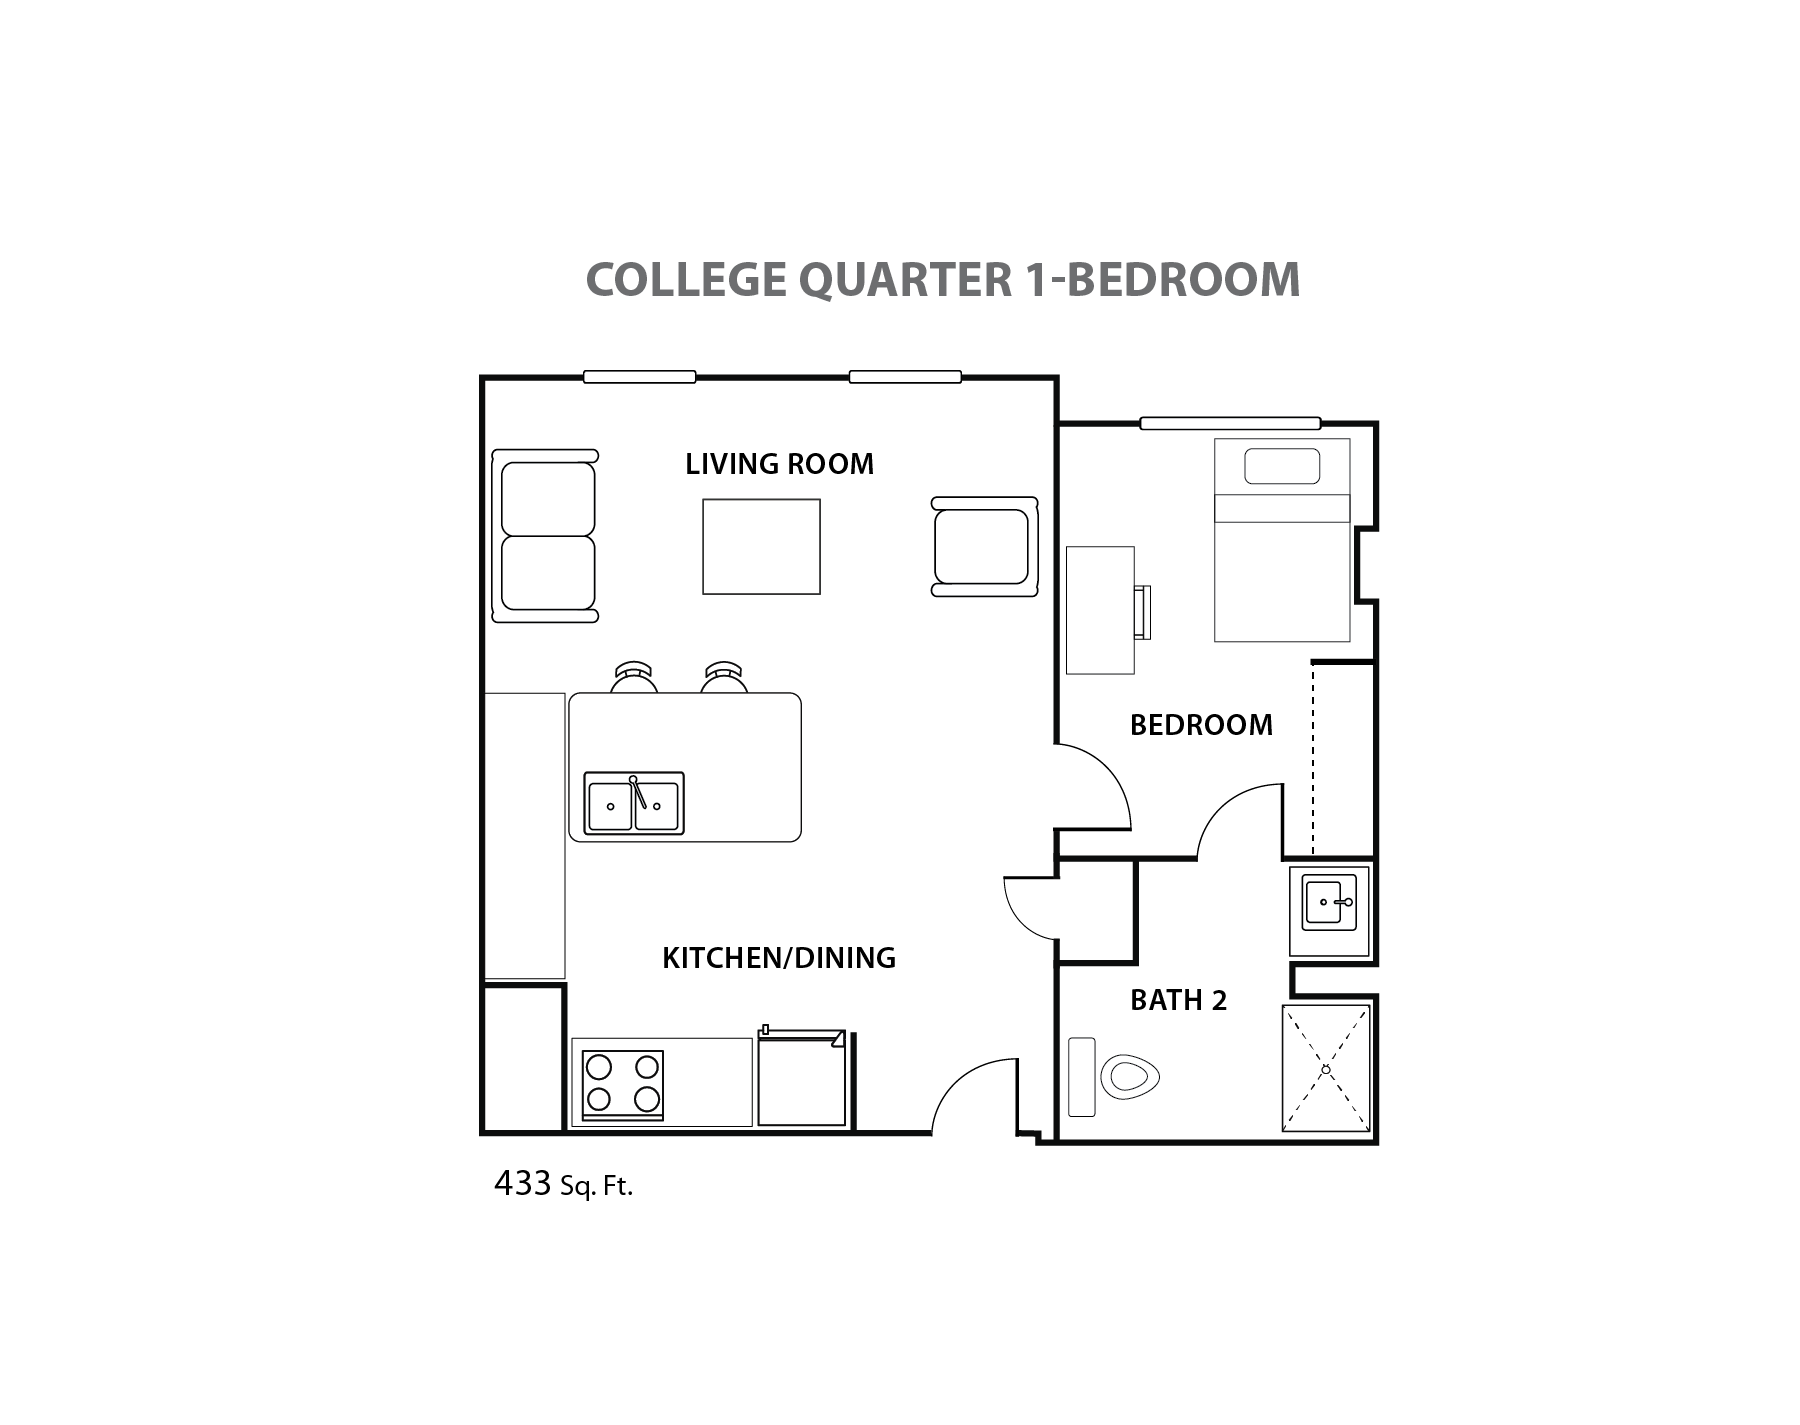door: (1061, 737, 1148, 837), (1192, 775, 1292, 854), (931, 1054, 1027, 1131), (988, 868, 1061, 946)
